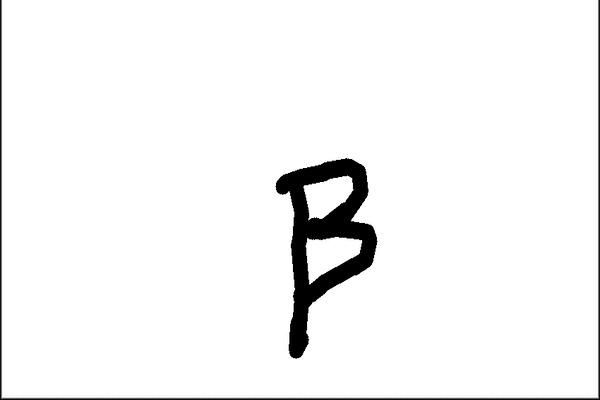B: (267, 154, 381, 363)
